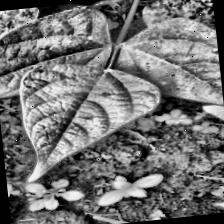ALS: (0, 2, 113, 112), (14, 71, 146, 164), (110, 19, 223, 108), (130, 0, 216, 37), (0, 6, 54, 48)
